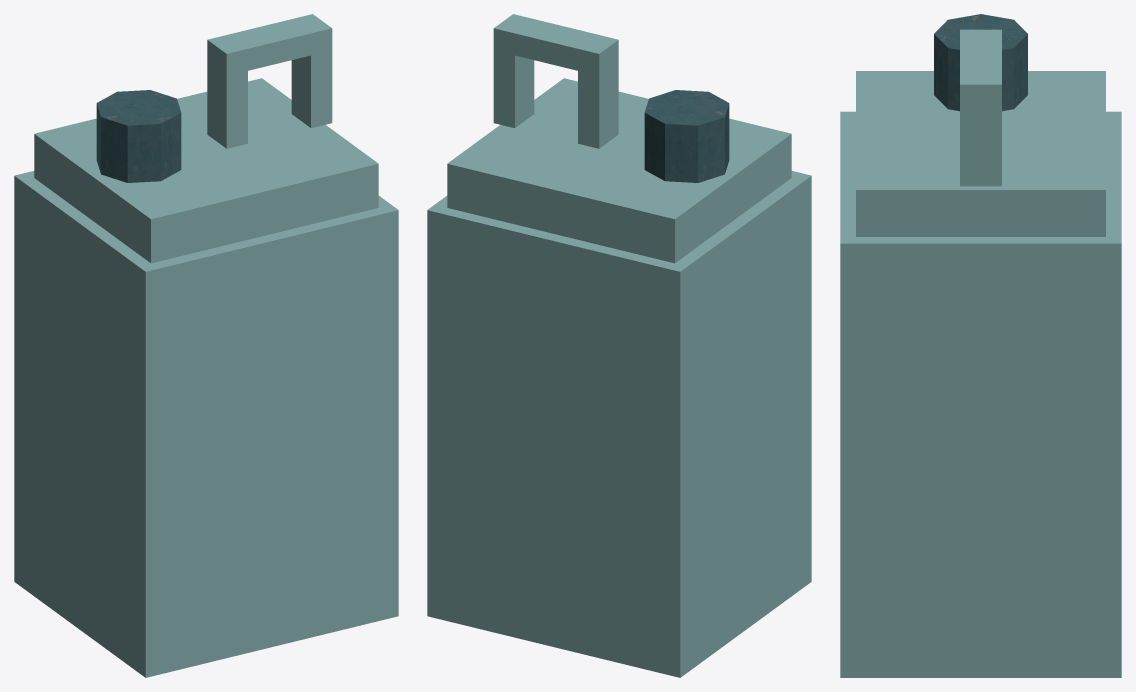
The model's file is city_water_jug.glb.
The picture shows the model from 3 angles, left to right: view 1: azimuth 30°, elevation 25°; view 2: azimuth 150°, elevation 25°; view 3: azimuth 270°, elevation 25°; orthographic projection. The views are drawn at different scales.
Visible parts, largest first — view 1: root; view 2: root; view 3: root.
Boxes of the visible parts, x1,y1,x2,y2 form: root: [14, 14, 398, 677]; root: [427, 14, 811, 677]; root: [840, 14, 1121, 677].
Bounding box in the file's own units: 0.3 × 0.6225 × 0.27.
1 material, 1 textured.
